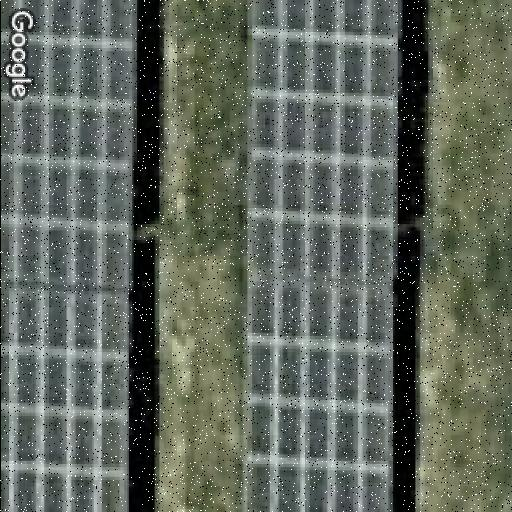solar-panel: (237, 0, 400, 512), (0, 0, 136, 512)
